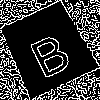B: (22, 24, 74, 80)
